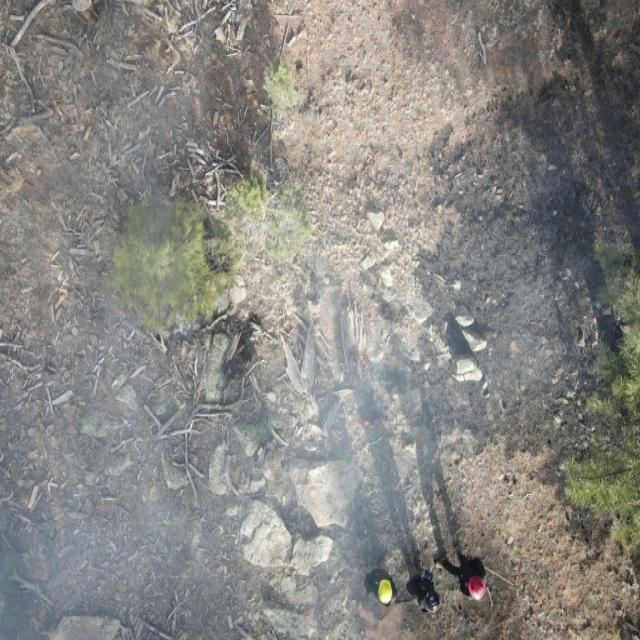fire: (350, 347, 373, 372), (358, 412, 378, 434)
smoke: (0, 0, 202, 640), (203, 199, 389, 640), (386, 226, 554, 512)
